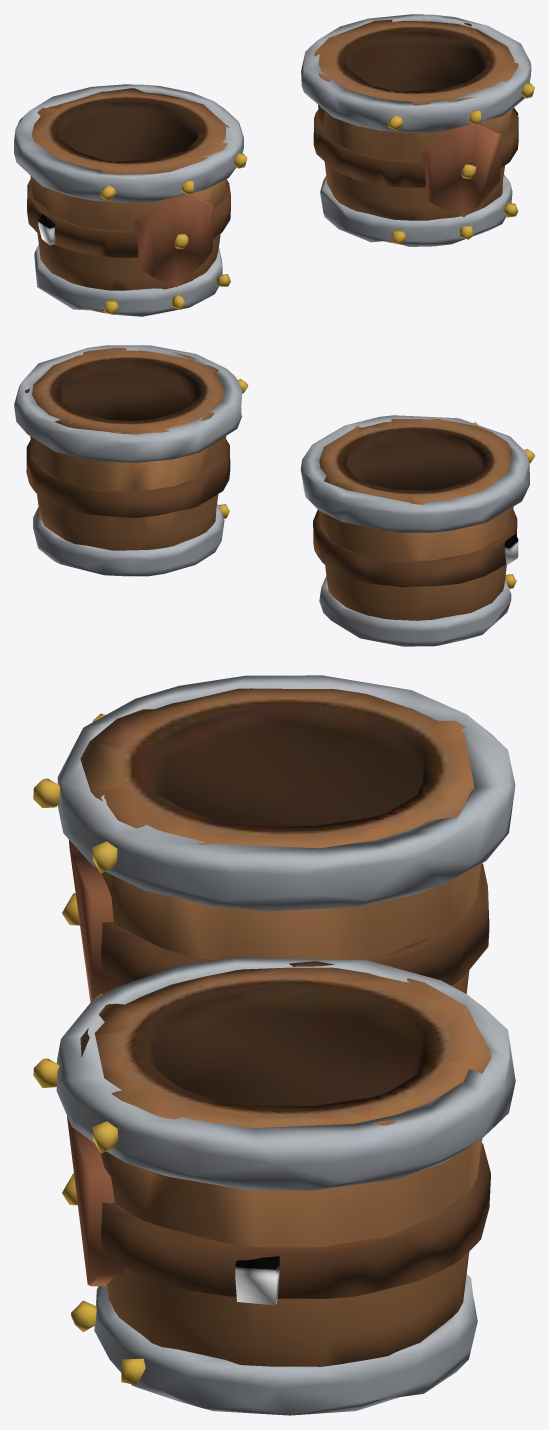
File: bracers.glb
The picture shows the model from 3 angles, top to bottom: view 1: azimuth 30°, elevation 25°; view 2: azimuth 150°, elevation 25°; view 3: azimuth 270°, elevation 25°; orthographic projection. The views are drawn at different scales.
Parts seen in each view (by area): view 1: leather; view 2: leather; view 3: leather.
Part boxes in pixels (<box>): leather: <box>14,14,534,316</box>; leather: <box>14,345,534,646</box>; leather: <box>33,675,515,1415</box>.
Bounding box in the file's own units: 0.5076 × 0.1479 × 0.2186.
Materials: 1 (1 with a texture image).
